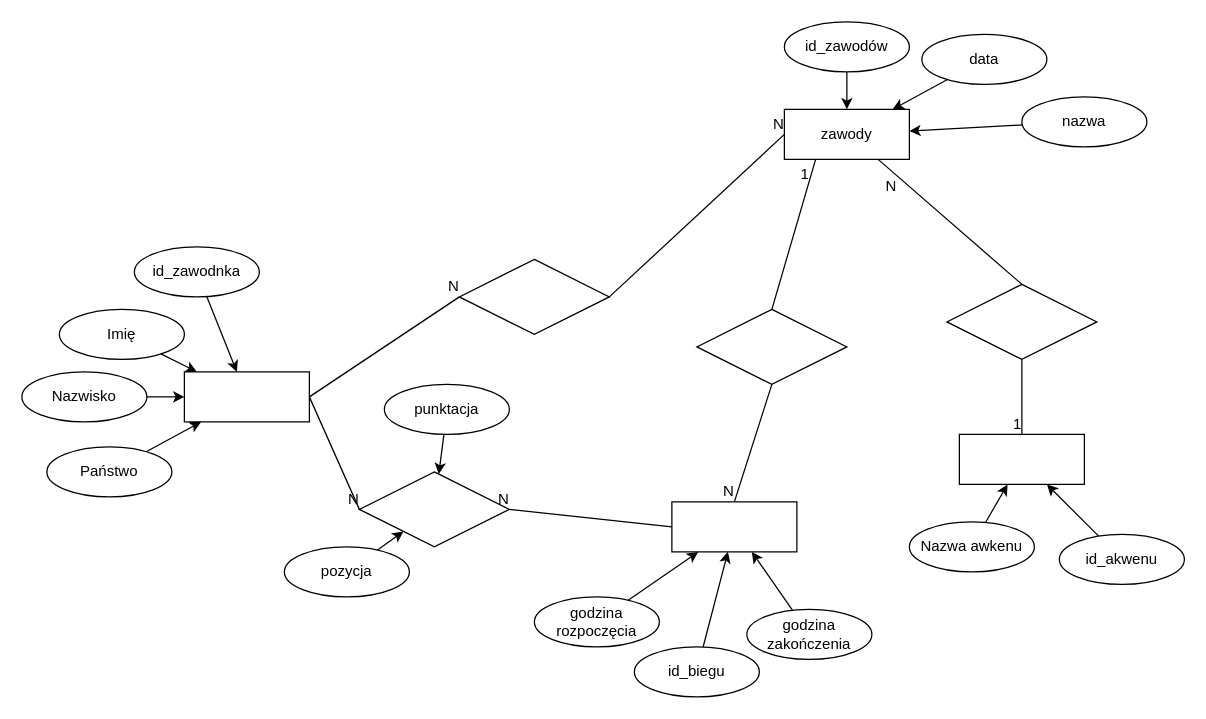
Image size: 1206x719. Some labels were removed from this diagram. The centre of each missing label's shape, as x and y in pixels:
Akwen: point (1021, 458)
Biegi: point (734, 526)
ilość_biegów: point (771, 346)
klasyfikacja: point (433, 509)
Relationship: point (1021, 321)
udział: point (533, 296)
Zawodnik: point (246, 396)
